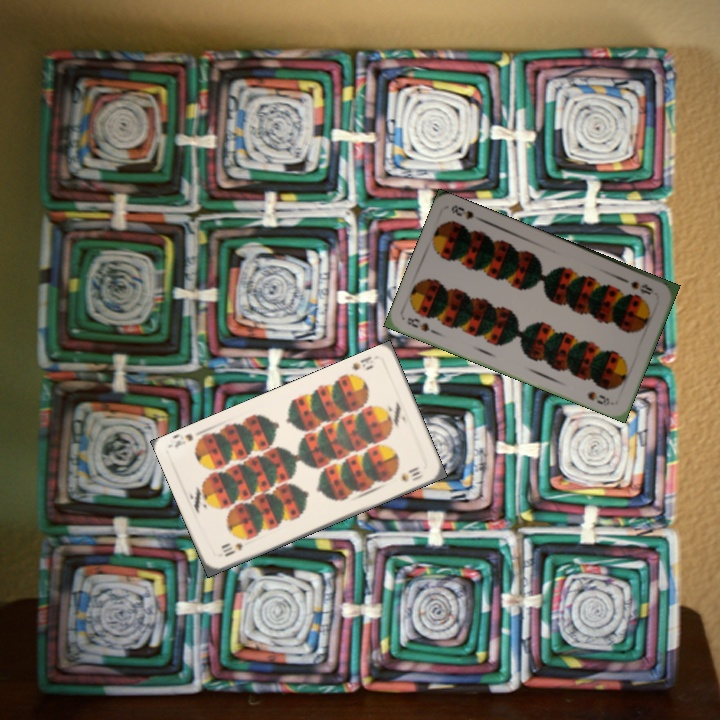S10: (347, 352, 374, 373), (219, 539, 245, 559)
S8: (403, 313, 440, 337), (627, 277, 655, 297)
